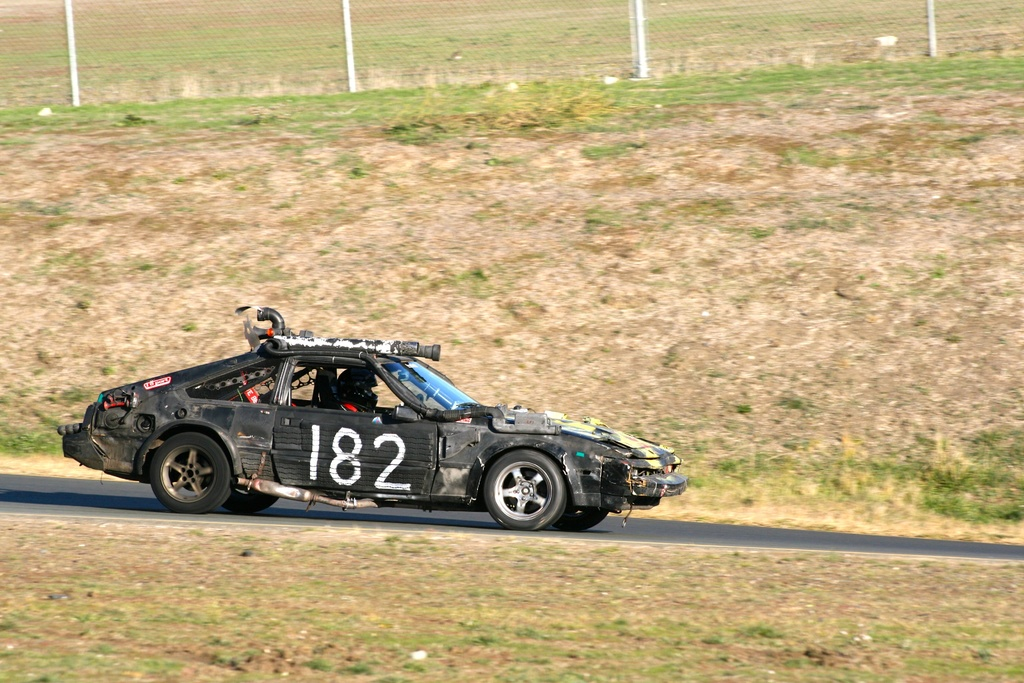Car: (60, 291, 704, 552)
